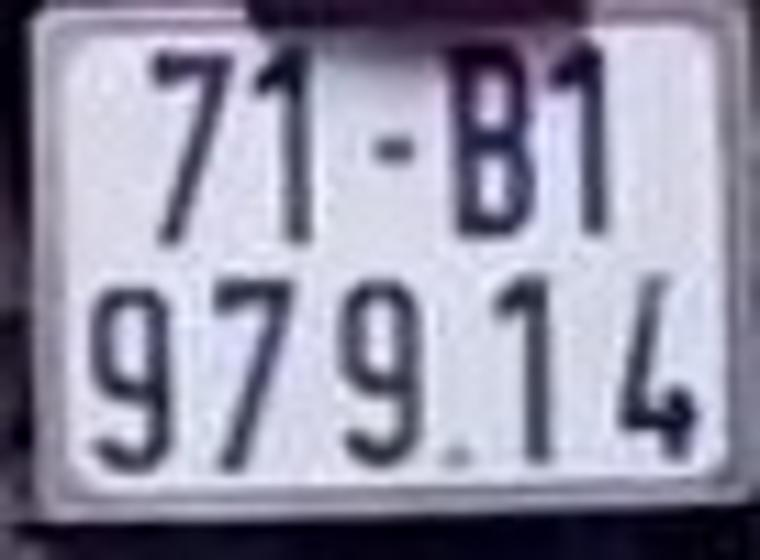-: (372, 134, 423, 169)
.: (437, 436, 482, 483)
1: (248, 40, 337, 254), (485, 266, 567, 473), (548, 36, 624, 245)
4: (608, 268, 713, 478)
7: (140, 40, 244, 254), (203, 272, 298, 480)
9: (333, 276, 432, 480), (82, 285, 178, 481)
B: (433, 37, 542, 241)
